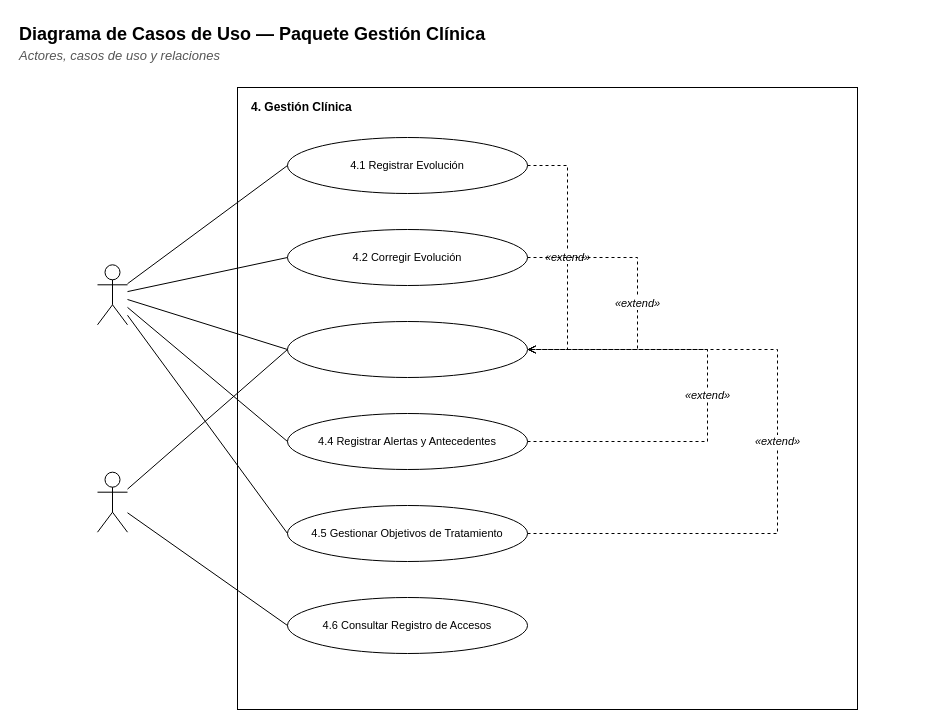
This 934x727 diagram has some shape labels left out. The shapes that lost their labels are listed below. From the top down, each one's centre as x and y in pixels, then its label:
the point at 112,294: Profesional
the point at 407,349: 4.3 Consultar Historia Clínica
the point at 112,501: Administrador
